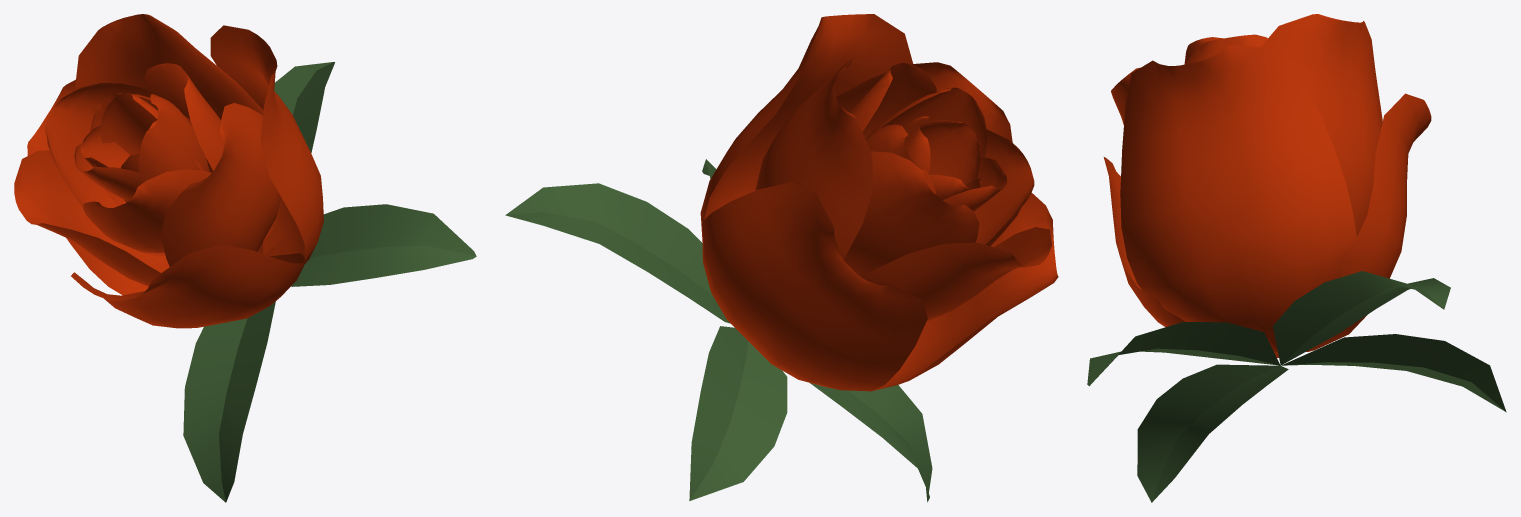
The model's file is Petalos1.fbx.
3 renders of one model, left to right at view 1: azimuth 30°, elevation 25°; view 2: azimuth 150°, elevation 25°; view 3: azimuth 270°, elevation 25°, orthographic. The views are drawn at different scales.
Parts seen in each view (by area): view 1: polySurface685, polySurface676; view 2: polySurface685, polySurface676; view 3: polySurface685, polySurface676.
Boxes of the visible parts, <box> form: polySurface685: <box>14,14,323,328</box>; polySurface676: <box>183,62,476,502</box>; polySurface685: <box>700,14,1058,391</box>; polySurface676: <box>505,159,932,502</box>; polySurface685: <box>1103,14,1431,357</box>; polySurface676: <box>1087,271,1506,502</box>.
Size of the model in its own units: 5.97 by 6.41 by 4.98.
